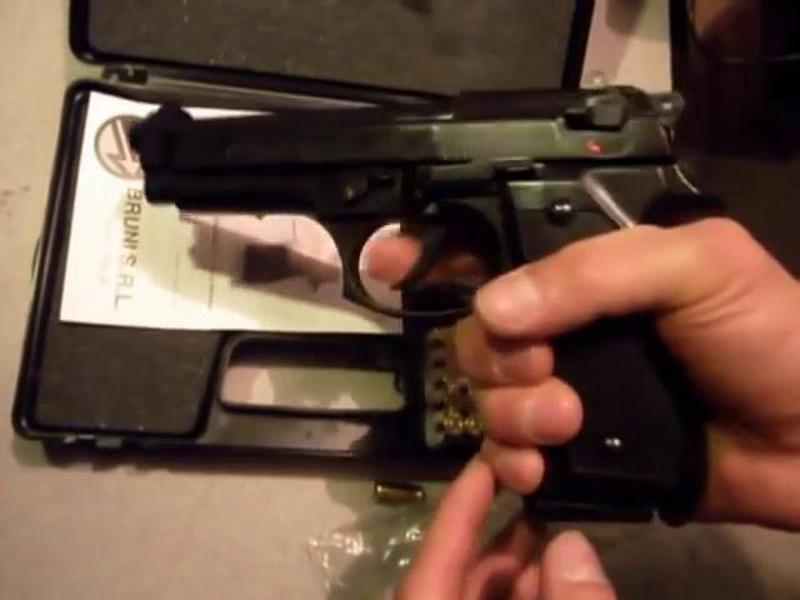Pistola: (127, 67, 800, 509)
